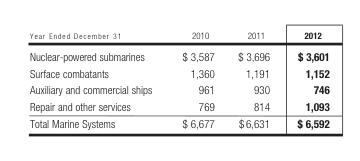table: (29, 29, 328, 129)
table column: (29, 29, 166, 129), (166, 29, 225, 129), (225, 29, 282, 129), (282, 29, 328, 129)
table column header: (29, 29, 328, 44)
table row: (29, 44, 328, 64), (29, 80, 328, 97), (29, 97, 328, 114), (29, 64, 328, 80), (29, 29, 328, 44), (29, 114, 328, 129)
